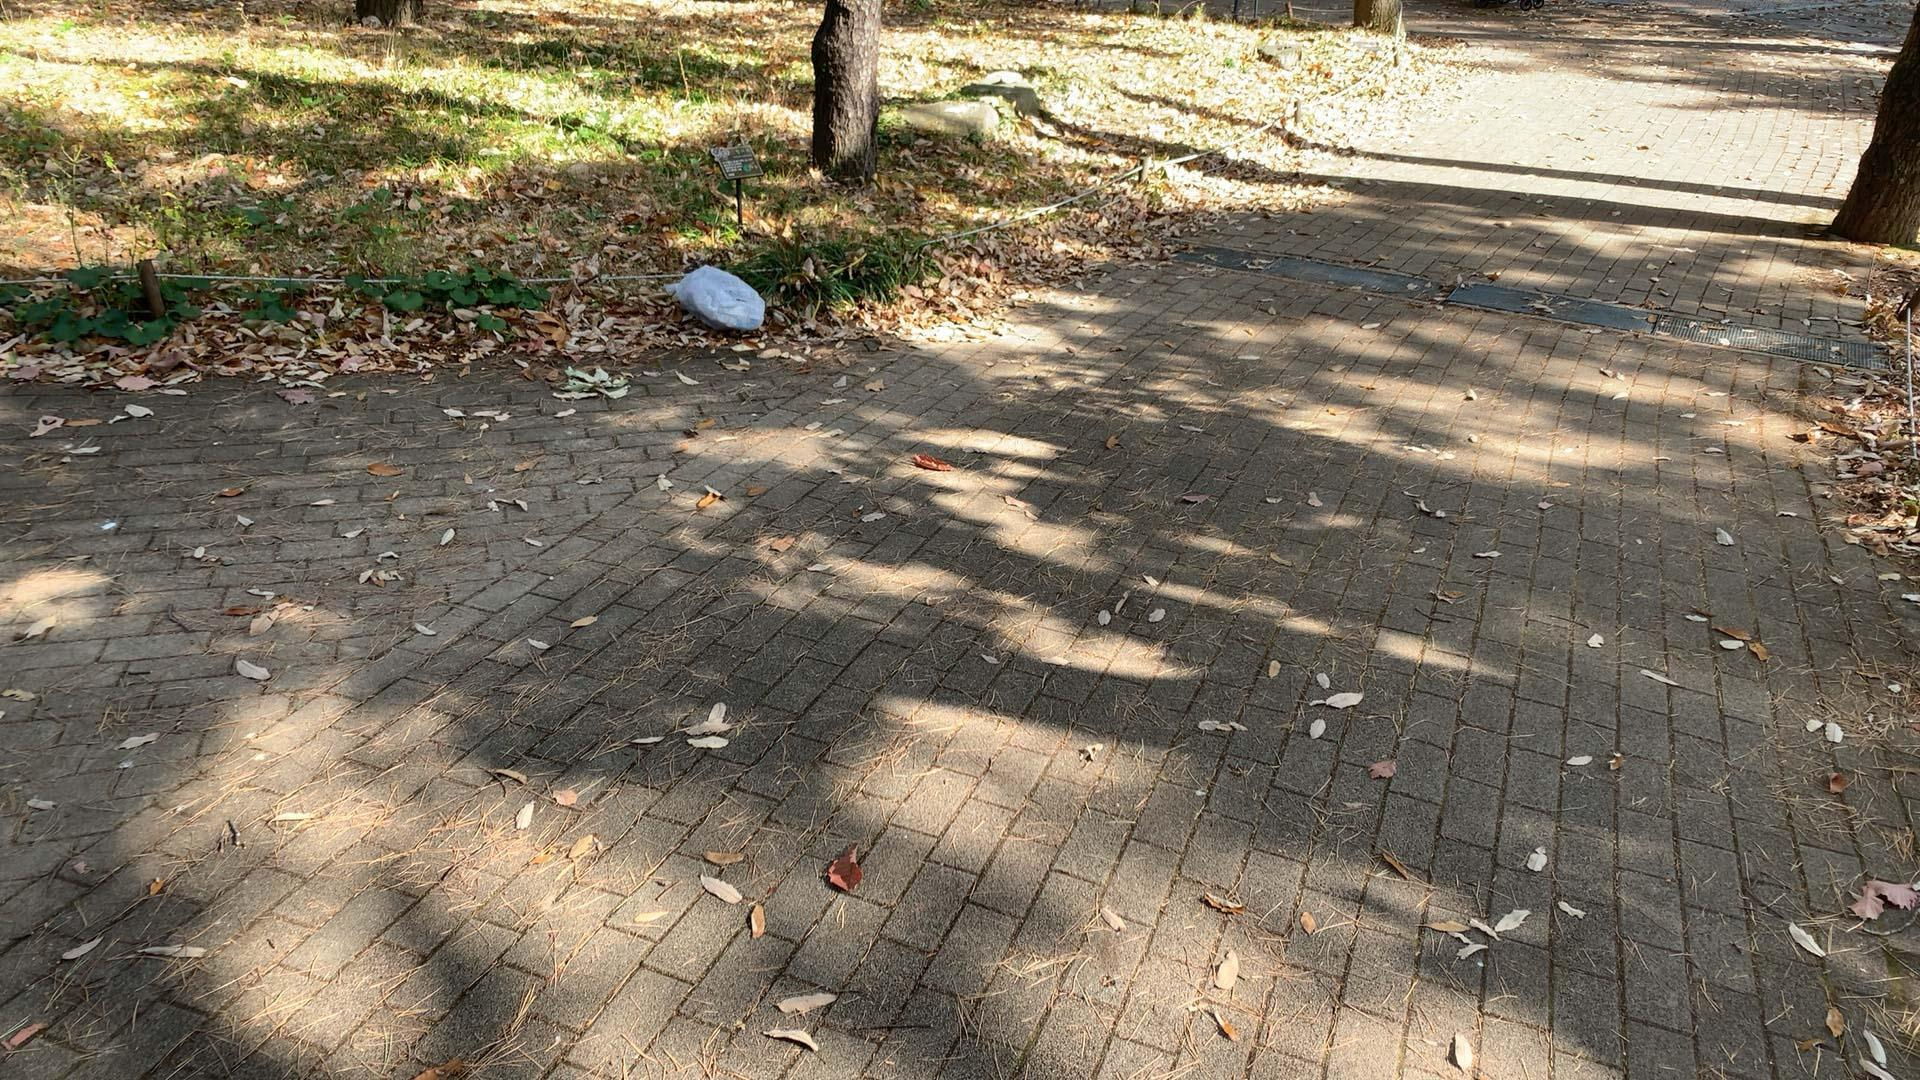white_bag: (662, 264, 775, 338)
